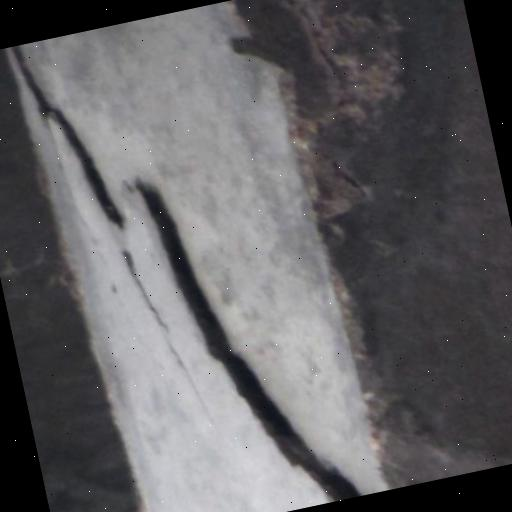spalling: (1, 45, 364, 500)
